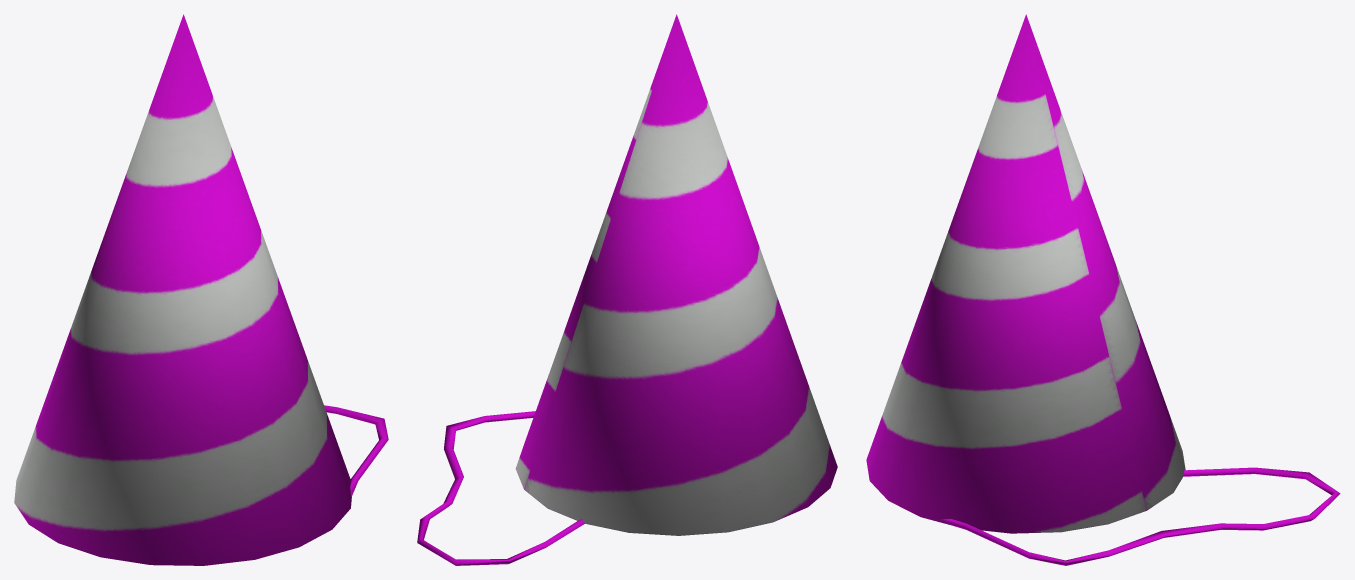
File: partyhat3_reference_006.fbx
3 renders of one model, left to right at view 1: azimuth 30°, elevation 25°; view 2: azimuth 150°, elevation 25°; view 3: azimuth 270°, elevation 25°, orthographic. The views are drawn at different scales.
Visible parts, largest first — view 1: partyhat3_reference.006; view 2: partyhat3_reference.006; view 3: partyhat3_reference.006.
Boxes of the visible parts, x1,y1,x2,y2 form: partyhat3_reference.006: (14, 14, 388, 565); partyhat3_reference.006: (417, 14, 837, 565); partyhat3_reference.006: (866, 14, 1340, 565).
Size of the model in its own units: 31.59 by 39.53 by 37.32.
